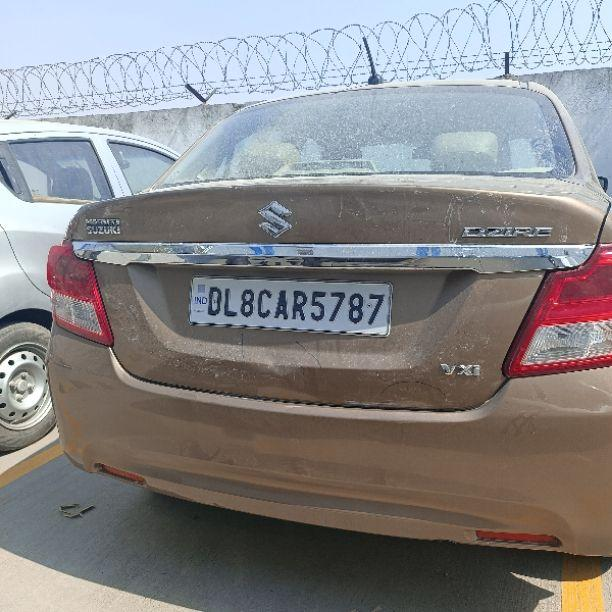license_plate: (187, 274, 393, 336)
